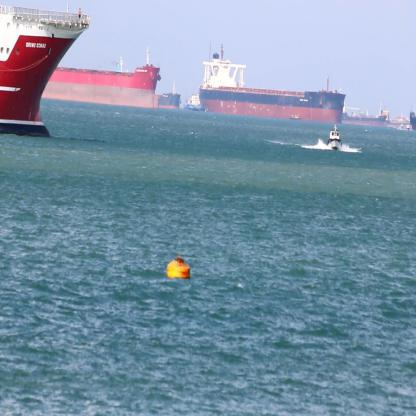Container Ship: (0, 0, 90, 139), (198, 43, 347, 124), (40, 43, 162, 109), (343, 103, 387, 125), (154, 81, 182, 110), (389, 107, 415, 130), (183, 90, 204, 111)
